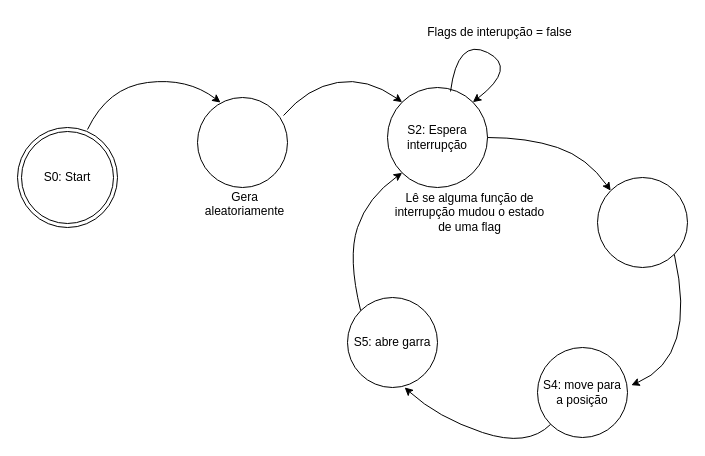
The diagram is 705 pixels wide and 456 high, and some of its shapes have lost their labels. The centre of each missing label's shape, as x and y in pixels:
S1: Gera posição inicial: the point at 242,142
S3: fecha garra: the point at 642,222
